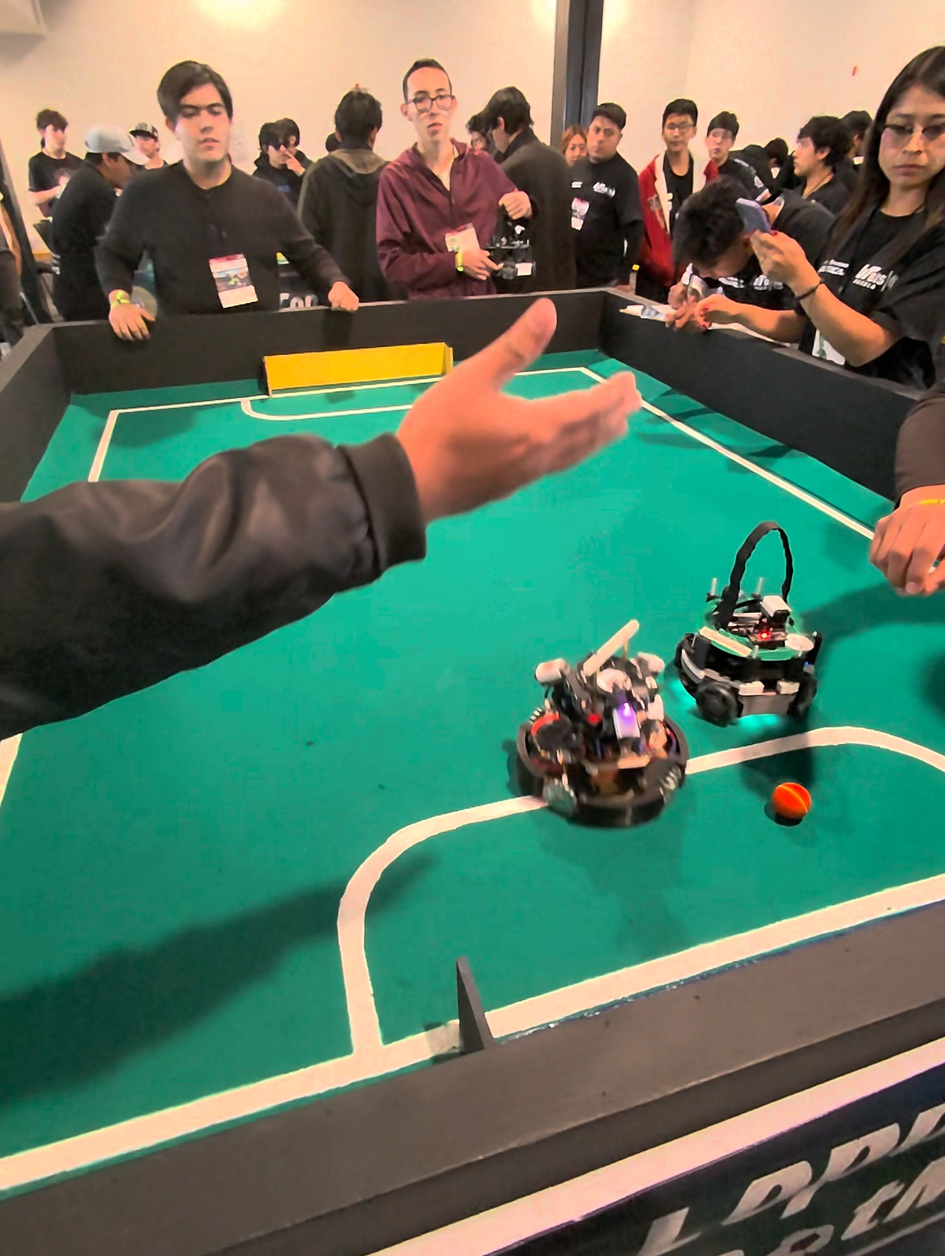Robot: (505, 631, 692, 834), (677, 511, 819, 730)
pelota: (765, 773, 815, 823)
